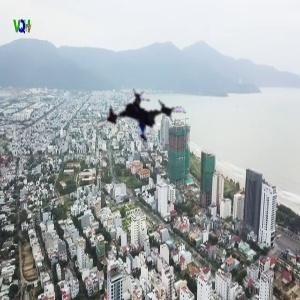drone: (97, 80, 196, 179)
